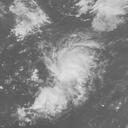cyclone: (46, 38, 100, 97)
